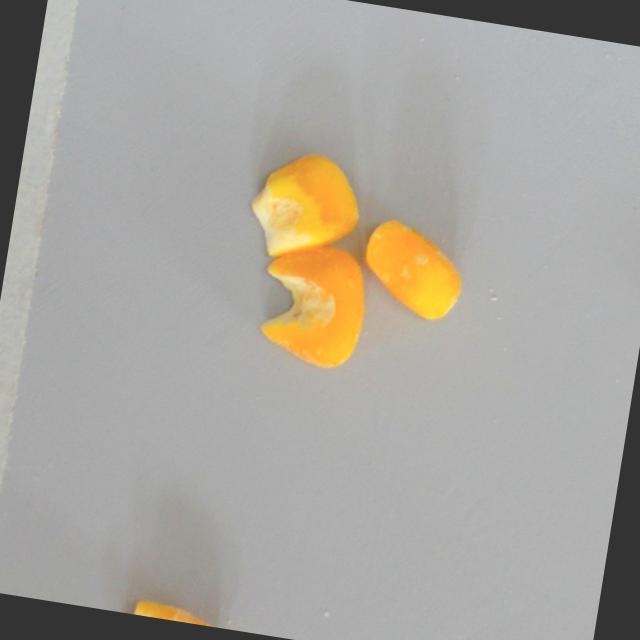no_desgerminado: (242, 142, 369, 269)
pelicula: (352, 227, 471, 311), (116, 595, 231, 629)
punto_negro: (249, 236, 372, 374)
